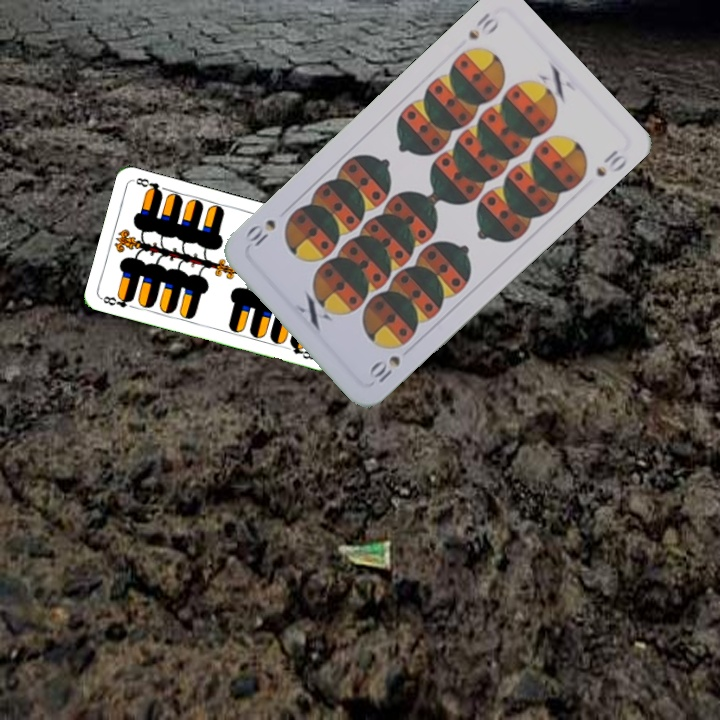E8: (98, 291, 136, 310)
S10: (364, 351, 403, 386), (464, 8, 502, 43)
